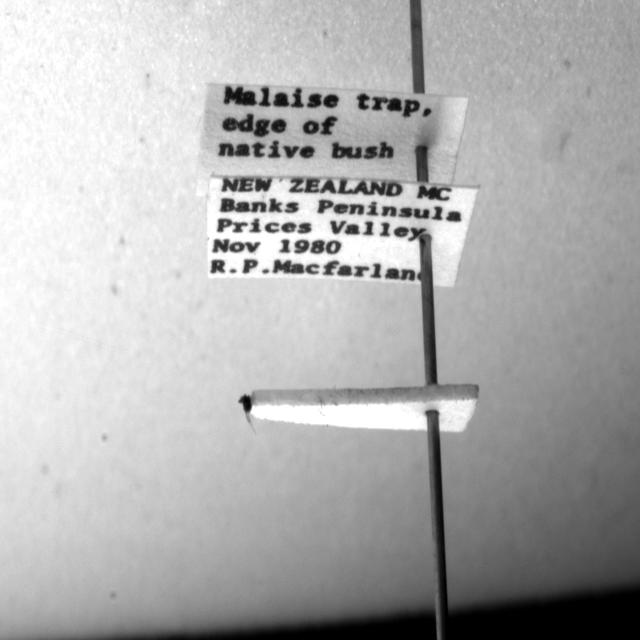typed_label: (196, 84, 468, 195), (208, 178, 478, 287)
